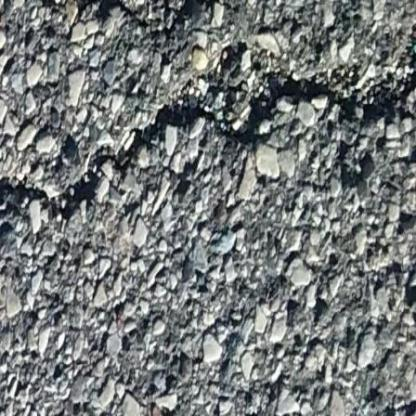Cracks: (0, 23, 416, 279), (0, 166, 416, 336)
